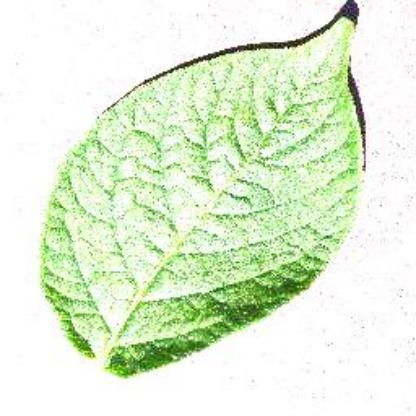Healthy-plant: (34, 7, 376, 381)
